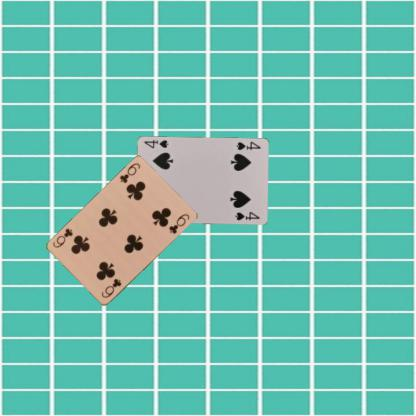4s: (233, 140, 262, 152)
6c: (116, 161, 142, 184), (99, 276, 122, 299)
